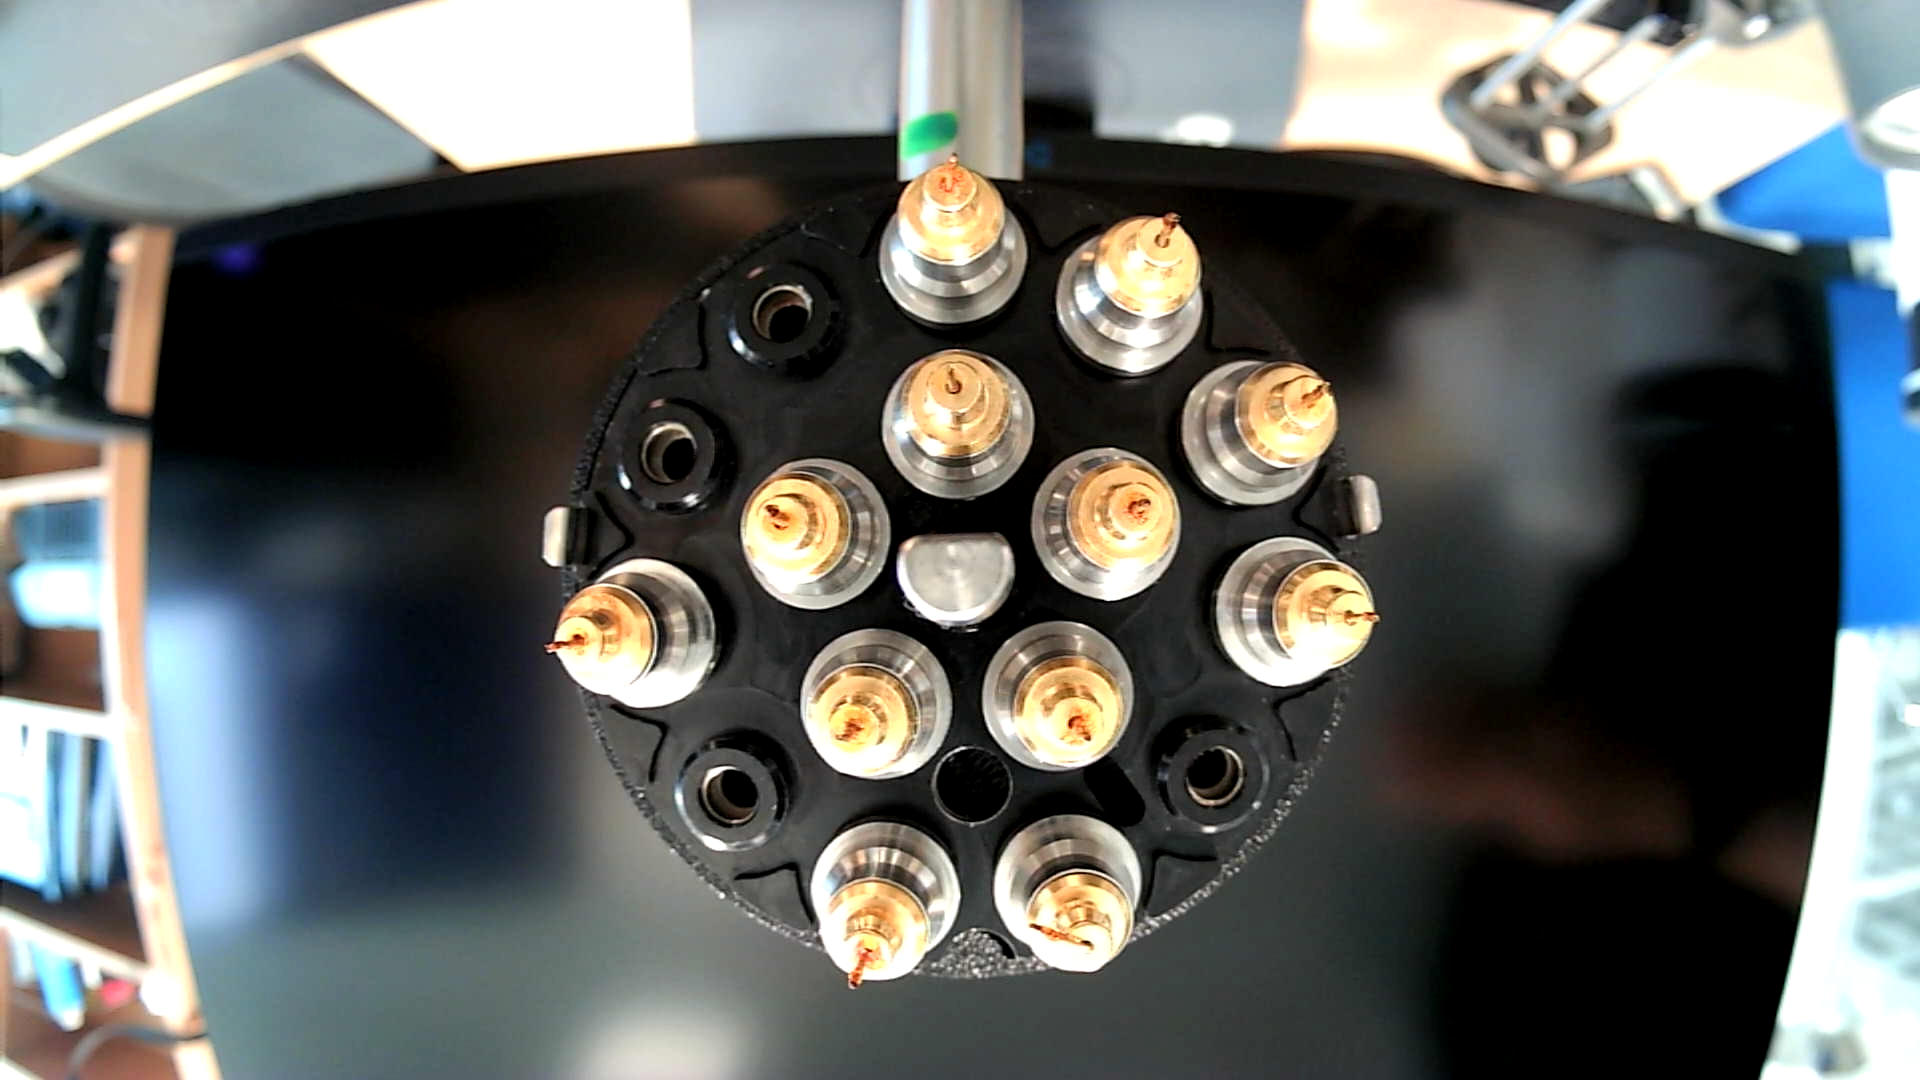bent: (992, 811, 1150, 981)
empty: (603, 390, 737, 521), (1137, 712, 1280, 833), (723, 258, 847, 381), (670, 729, 790, 855)
hole: (928, 742, 1015, 827)
pin: (541, 553, 725, 711), (807, 814, 963, 992), (1205, 533, 1377, 690), (880, 153, 1033, 328), (1055, 208, 1207, 380), (796, 625, 956, 782), (877, 345, 1036, 502), (1029, 446, 1183, 605), (1178, 359, 1337, 513), (977, 621, 1133, 778), (738, 455, 894, 611)
rod: (895, 530, 1021, 628)
